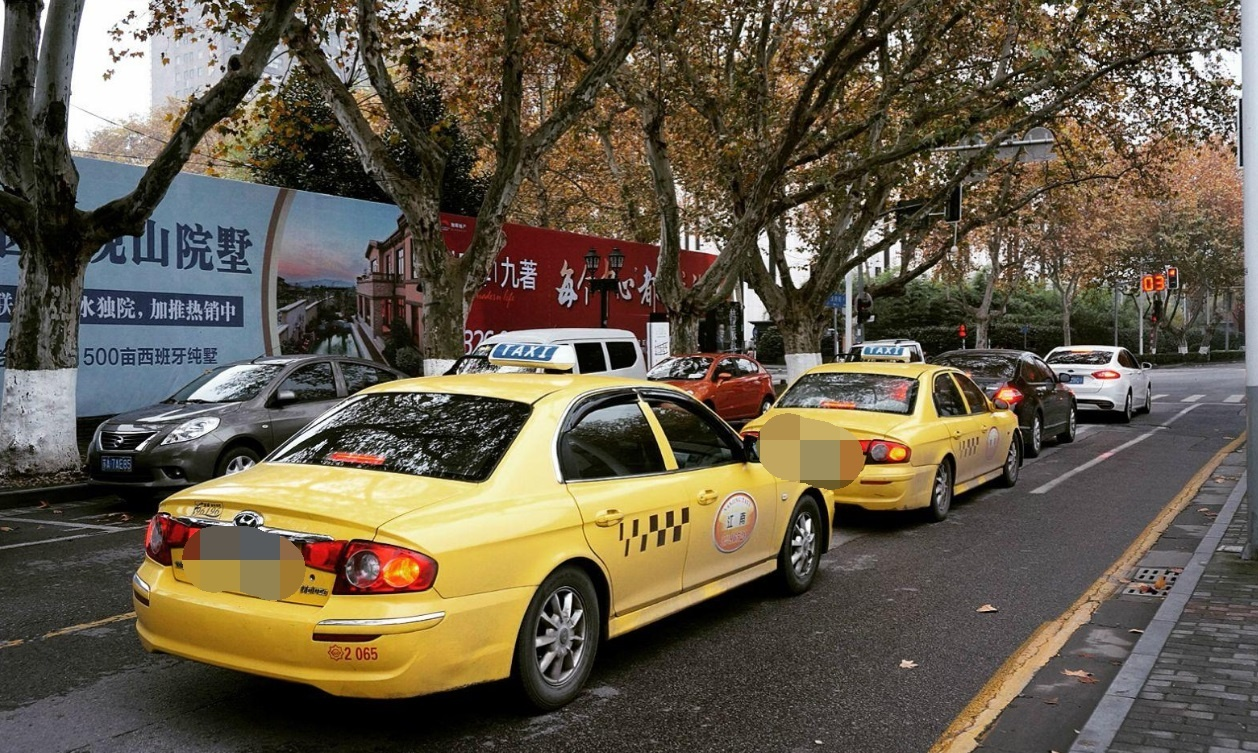heavy truck: (124, 320, 855, 702)
